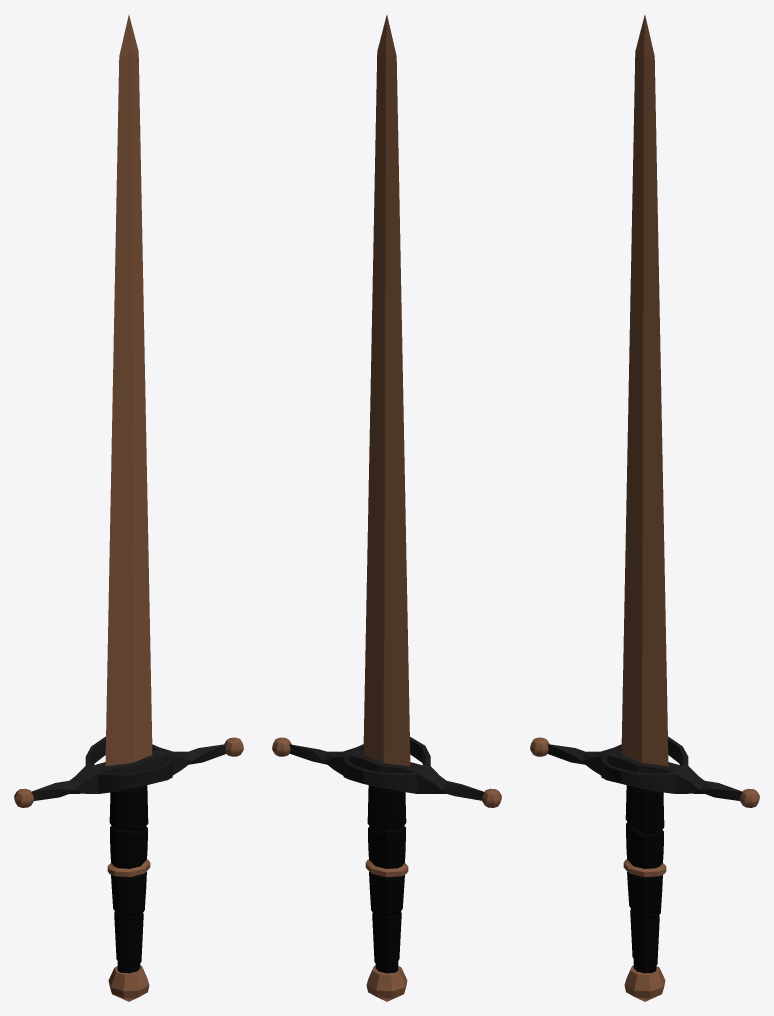
The model's file is SM_Sword07_GermanBastard_4Bronze.fbx.
The picture shows the model from 3 angles, left to right: view 1: azimuth 30°, elevation 25°; view 2: azimuth 150°, elevation 25°; view 3: azimuth 330°, elevation 25°; orthographic projection.
Parts seen in each view (by area): view 1: Cube.292, Cylinder.196, Cube.293, Sphere.104, Sphere.103; view 2: Cube.292, Cylinder.196, Cube.293, Sphere.104, Sphere.103; view 3: Cube.292, Cylinder.196, Cube.293, Sphere.104, Sphere.103.
Boxes of the visible parts, bbox=[...] form: Cube.292: bbox=[105, 15, 152, 766]; Cylinder.196: bbox=[107, 785, 150, 973]; Cube.293: bbox=[31, 736, 226, 800]; Sphere.104: bbox=[108, 965, 149, 1001]; Sphere.103: bbox=[14, 737, 243, 807]; Cube.292: bbox=[363, 15, 410, 766]; Cylinder.196: bbox=[365, 785, 408, 973]; Cube.293: bbox=[289, 737, 484, 800]; Sphere.104: bbox=[366, 965, 407, 1001]; Sphere.103: bbox=[272, 737, 501, 807]; Cube.292: bbox=[621, 15, 668, 766]; Cylinder.196: bbox=[623, 785, 666, 973]; Cube.293: bbox=[547, 736, 742, 800]; Sphere.104: bbox=[624, 965, 665, 1001]; Sphere.103: bbox=[530, 737, 759, 807].
Size of the model in its own units: 0.2986 by 1.24 by 0.1071.
